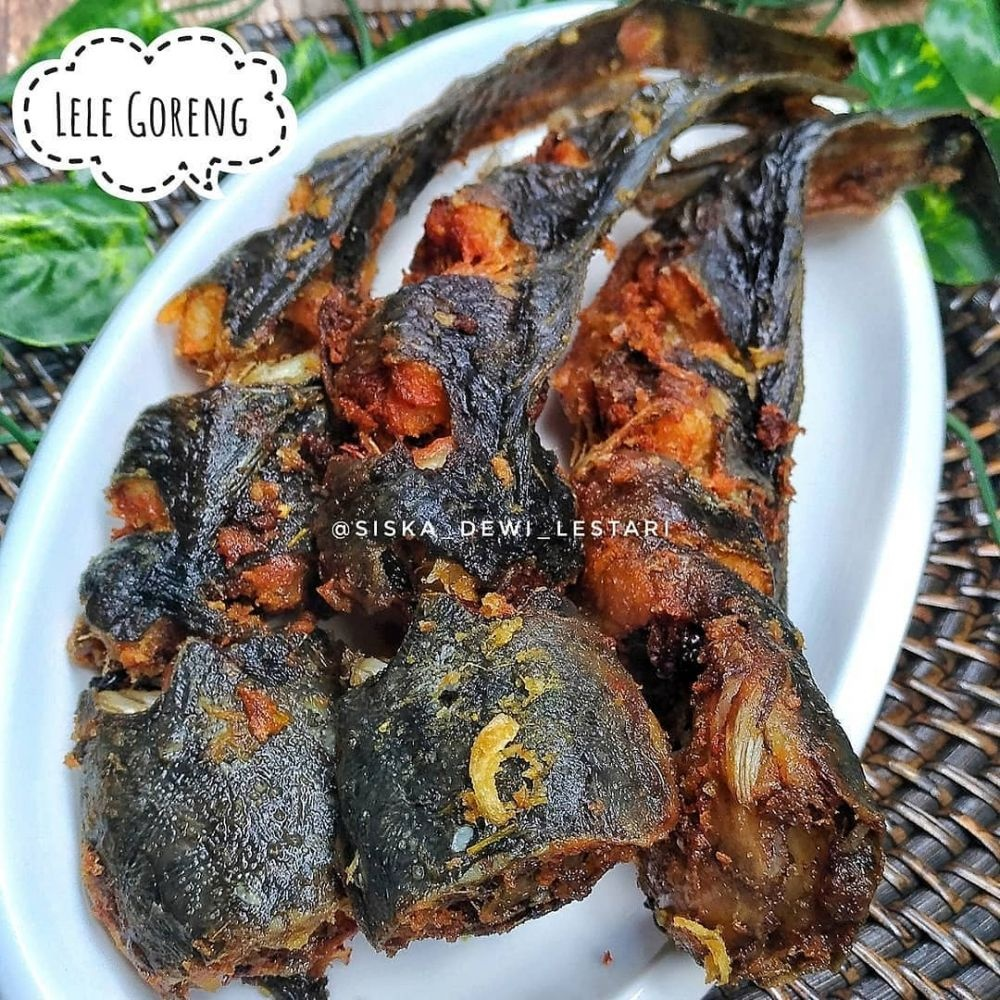pecel_lele: (573, 129, 895, 976), (340, 107, 593, 944), (74, 225, 352, 967)
